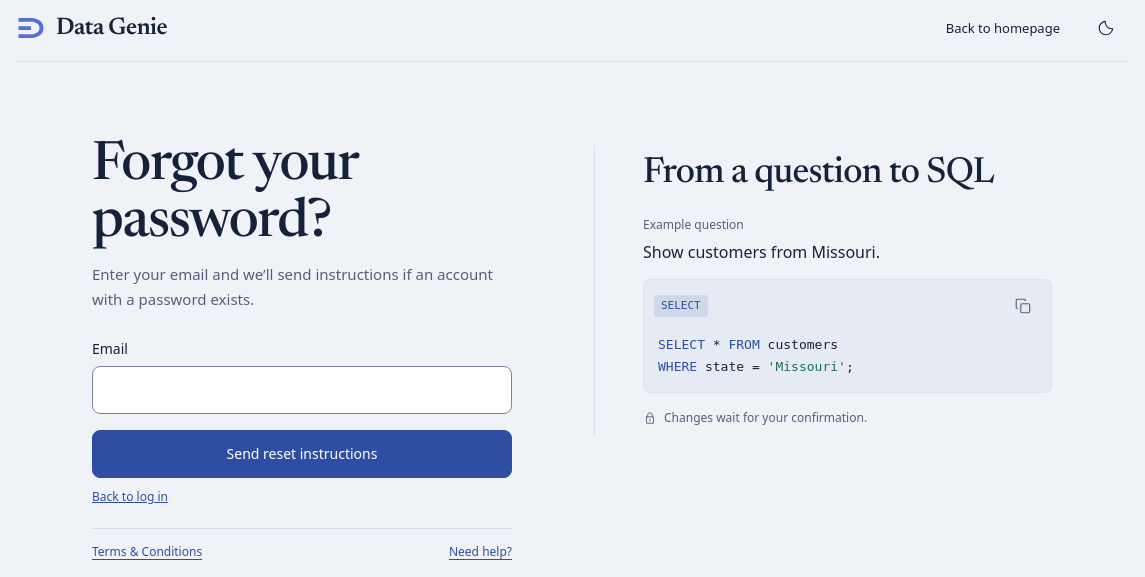
requests recovery with an email and displays the generic server response
Step 1. Type "reader@example.com" into the field labelled "Email" → (302, 390), box left=92, top=366, right=512, bottom=414
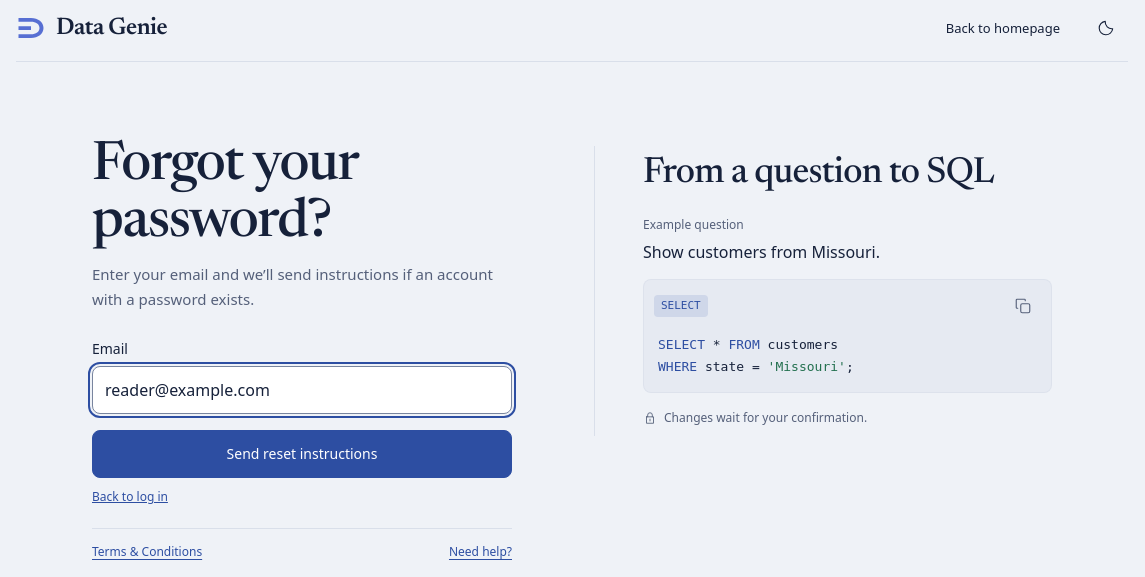
Step 2. Click the button "Send reset instructions" → (302, 454), box left=92, top=430, right=512, bottom=478
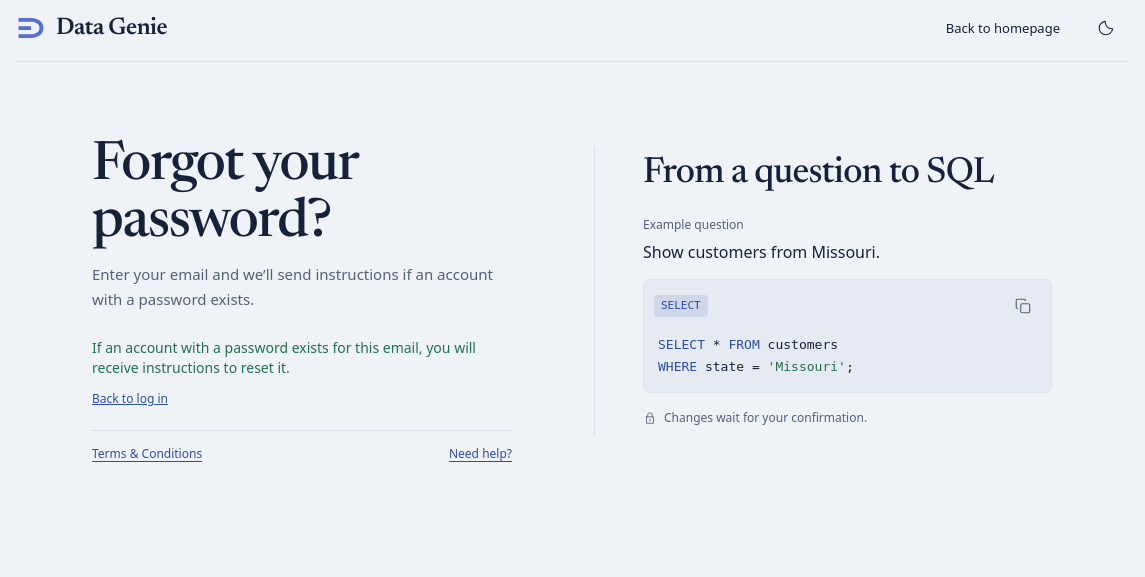
Result: the text "If an account with a password exists for this email, you will receive instructions to reset it." is shown at left=92, top=338, right=476, bottom=377
